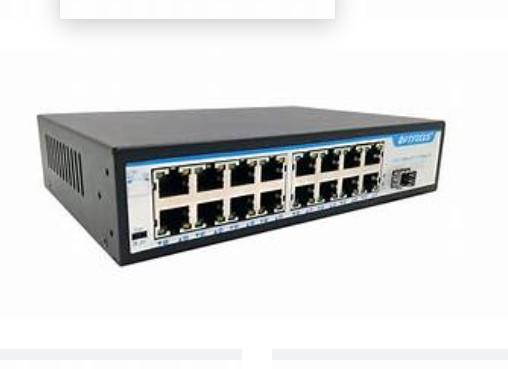NetworkSwitch: (36, 106, 447, 268)
